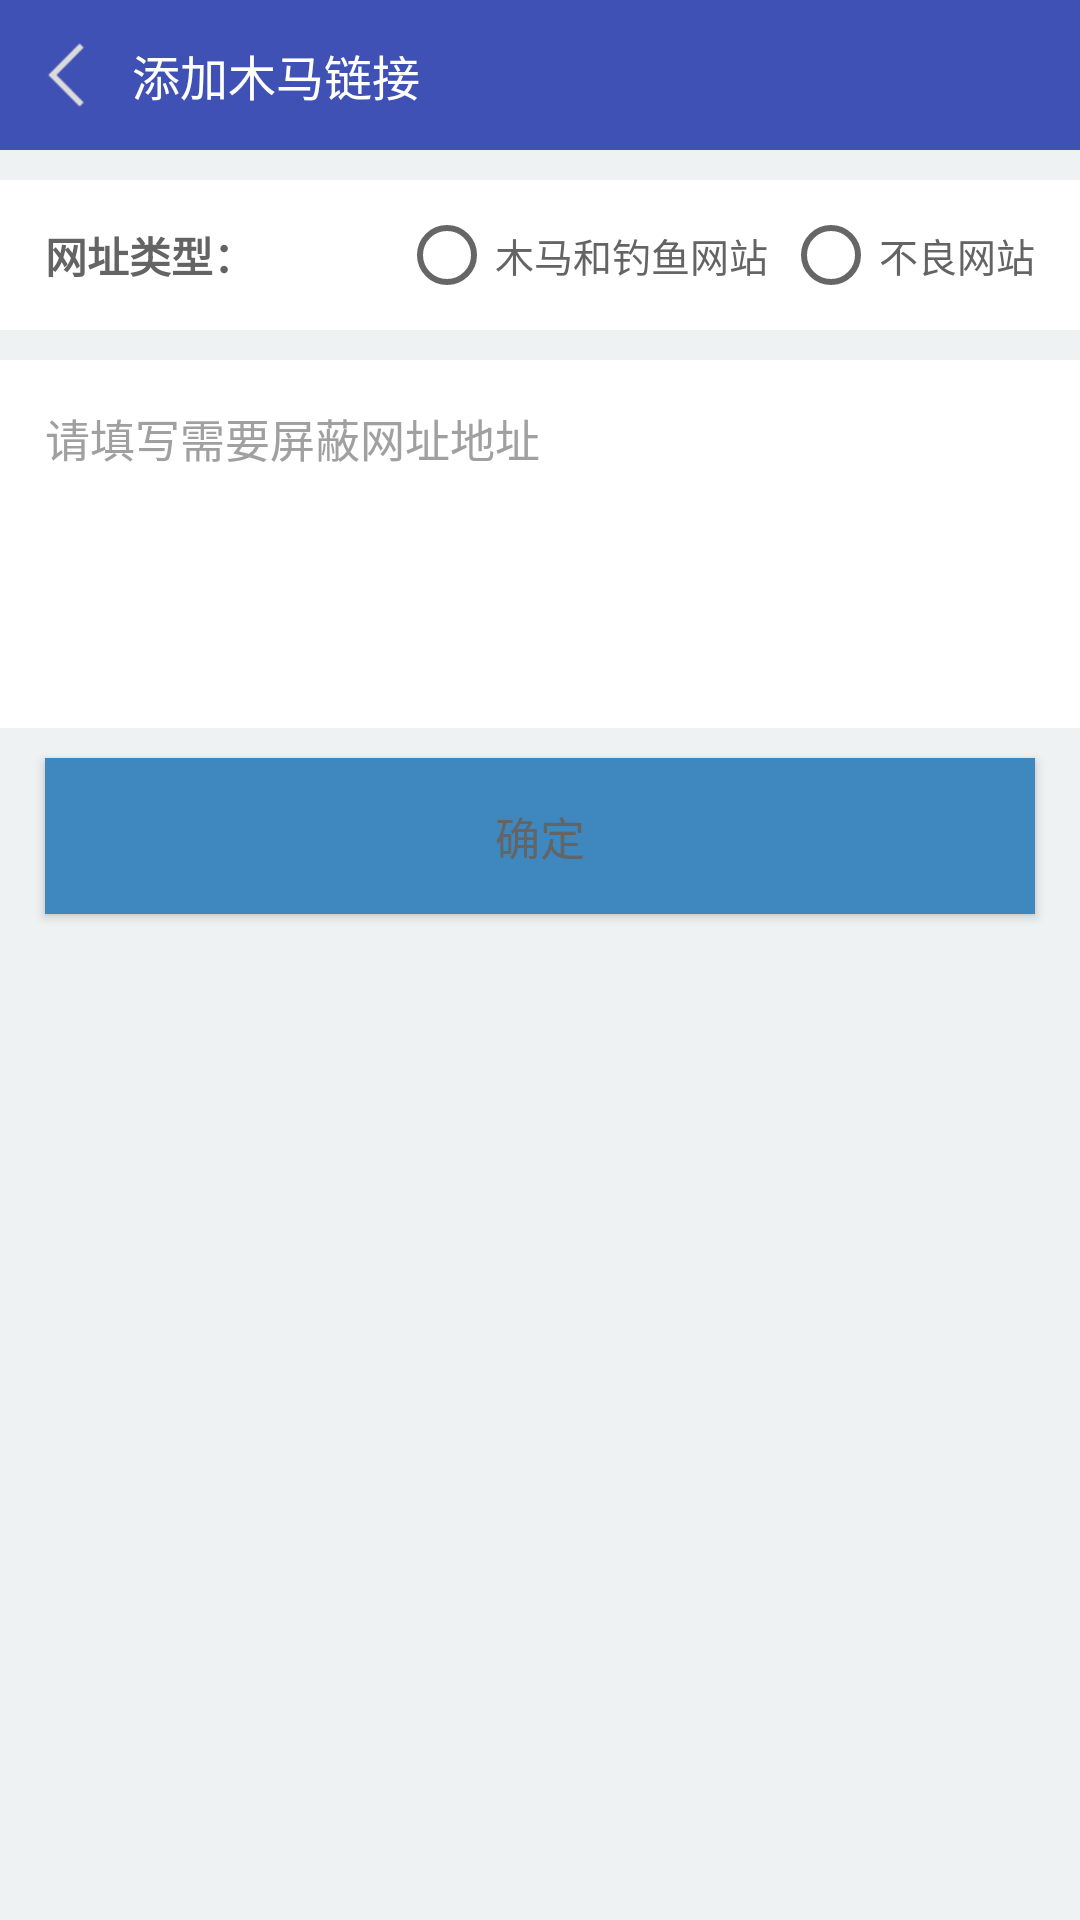

Named icons in this screenshot (1080px×1920px) and their bounding boxes, (x1, y1, x2, y2):
back: (48, 43, 84, 107)
